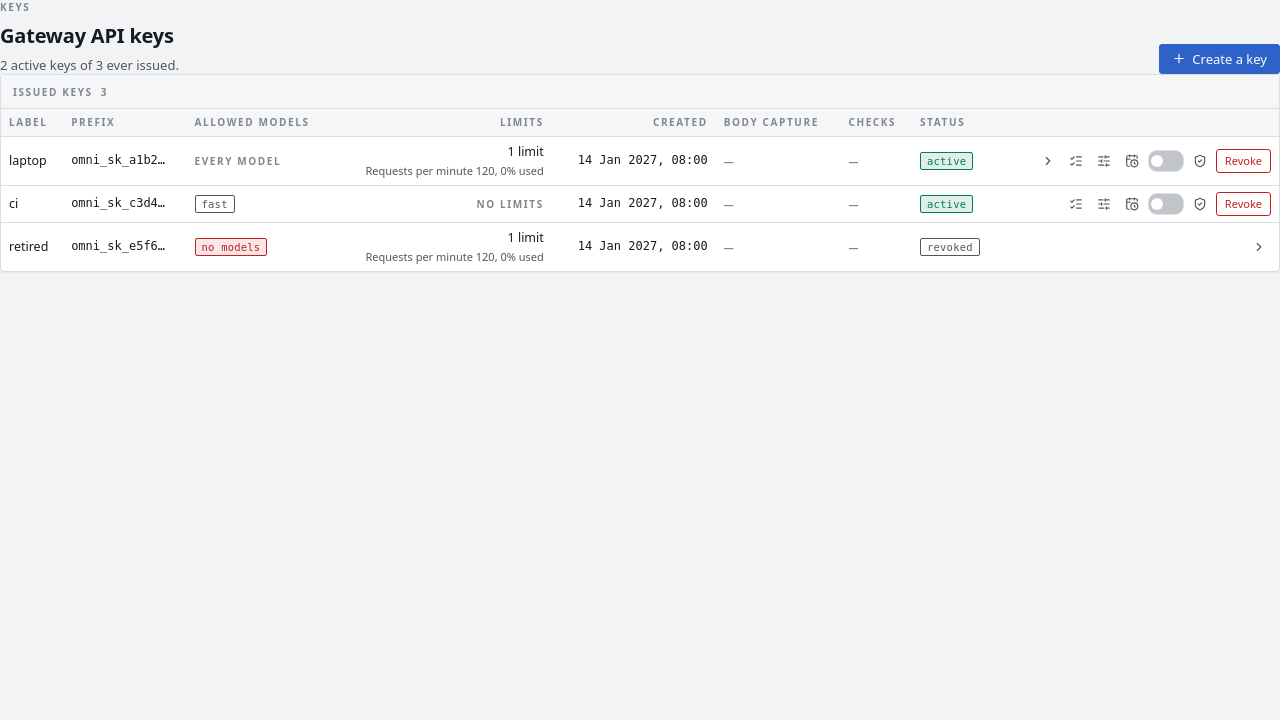
Test: KeysBoard › restricting to no model warns that the key is allowed nothing
The width and height of the screenshot is (1280, 720).
Click the button "Create a key" at (1220, 59), box [1159,44,1279,74]
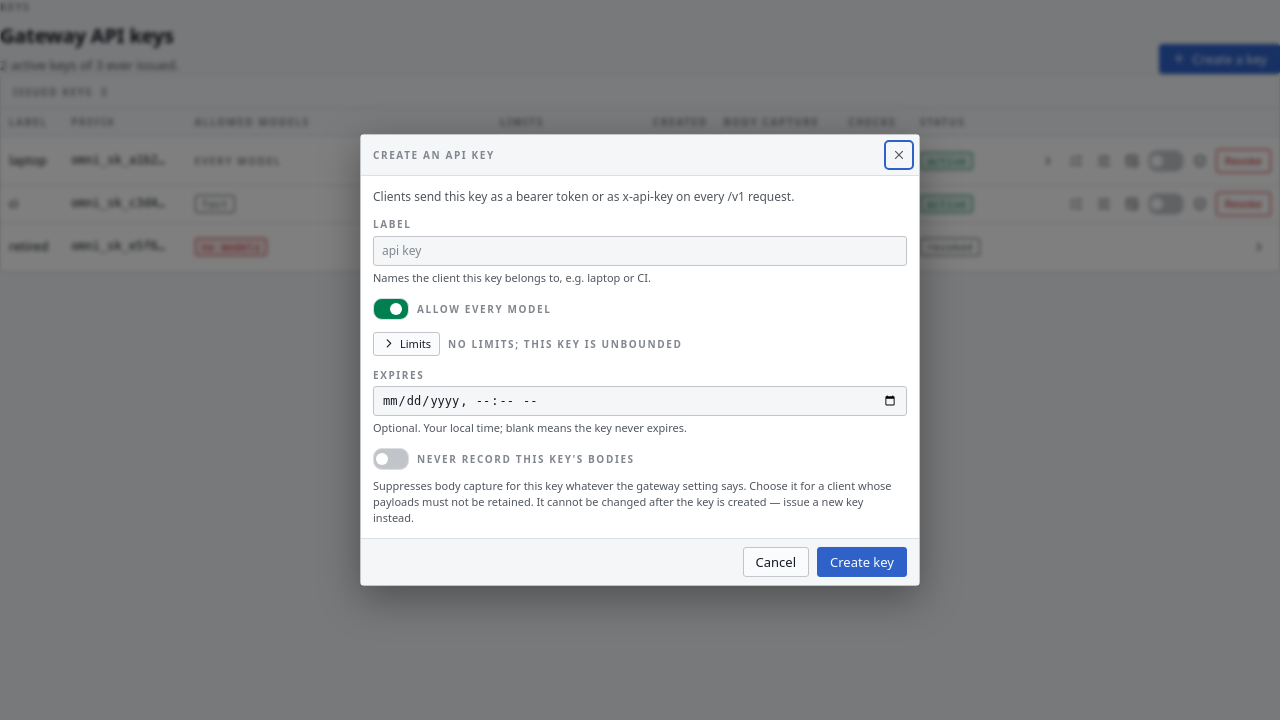
Click the switch named "Allow every model" at (391, 309), box [373,298,409,320]
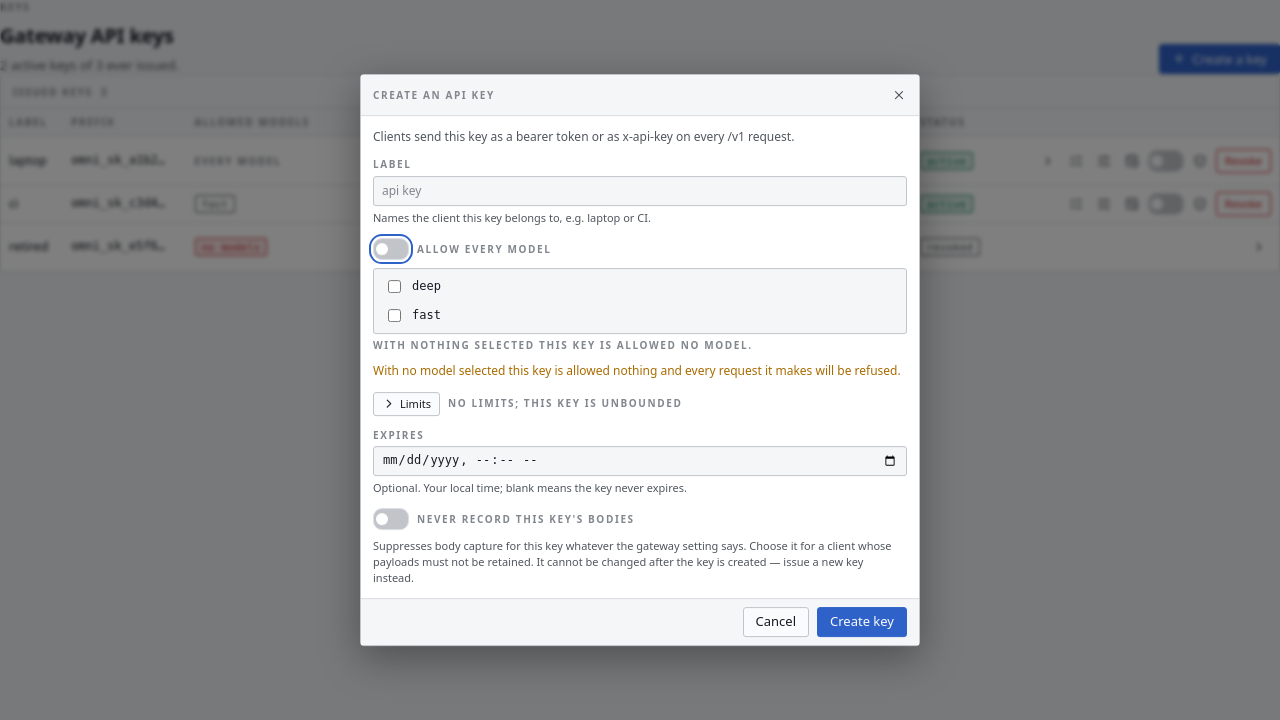
Expected: the text "this key is allowed nothing and every request it makes will be refused" is shown, [373,362,901,379]
